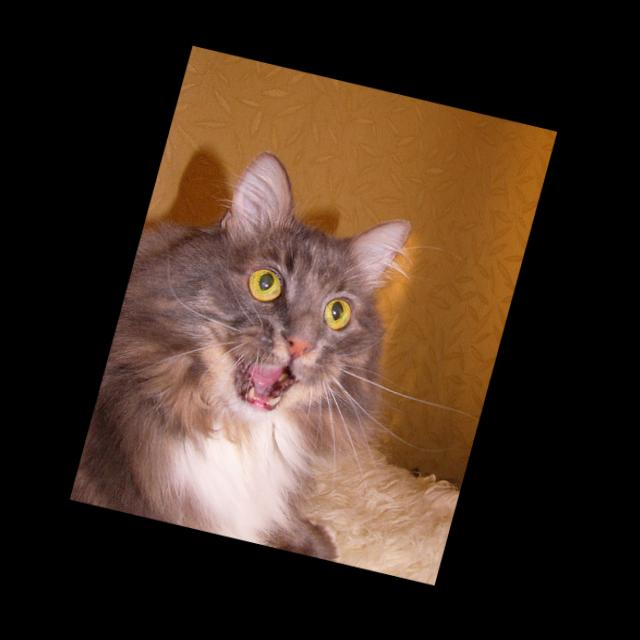animals: (199, 147, 420, 377)
